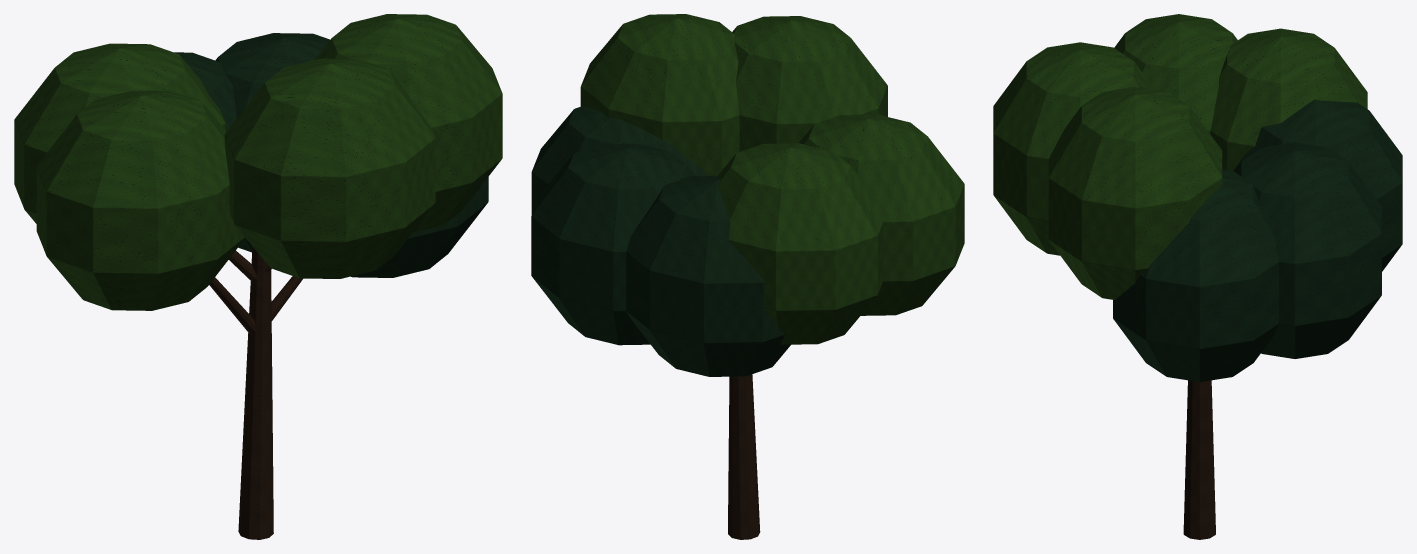
File: PROP-2EA295D04C53_lod1.glb
The picture shows the model from 3 angles, left to right: view 1: azimuth 30°, elevation 25°; view 2: azimuth 150°, elevation 25°; view 3: azimuth 270°, elevation 25°; orthographic projection. The views are drawn at different scales.
Parts seen in each view (by area): view 1: leaf_crown.051, leaf_crown.050, trunk.047, branch.029; view 2: leaf_crown.051, leaf_crown.050, trunk.047; view 3: leaf_crown.051, leaf_crown.050, trunk.047.
Boxes of the visible parts, x1,y1,x2,y2 form: leaf_crown.051: (14,14,502,310); leaf_crown.050: (174,33,488,277); trunk.047: (238,246,273,539); branch.029: (209,250,302,335); leaf_crown.051: (580,14,964,344); leaf_crown.050: (531,106,790,376); trunk.047: (728,374,760,539); leaf_crown.051: (993,14,1367,299); leaf_crown.050: (1113,99,1402,382); trunk.047: (1183,380,1215,539).
Bounding box in the file's own units: 6.87 × 7.6 × 5.78.
Materials: 3 (3 with a texture image).
